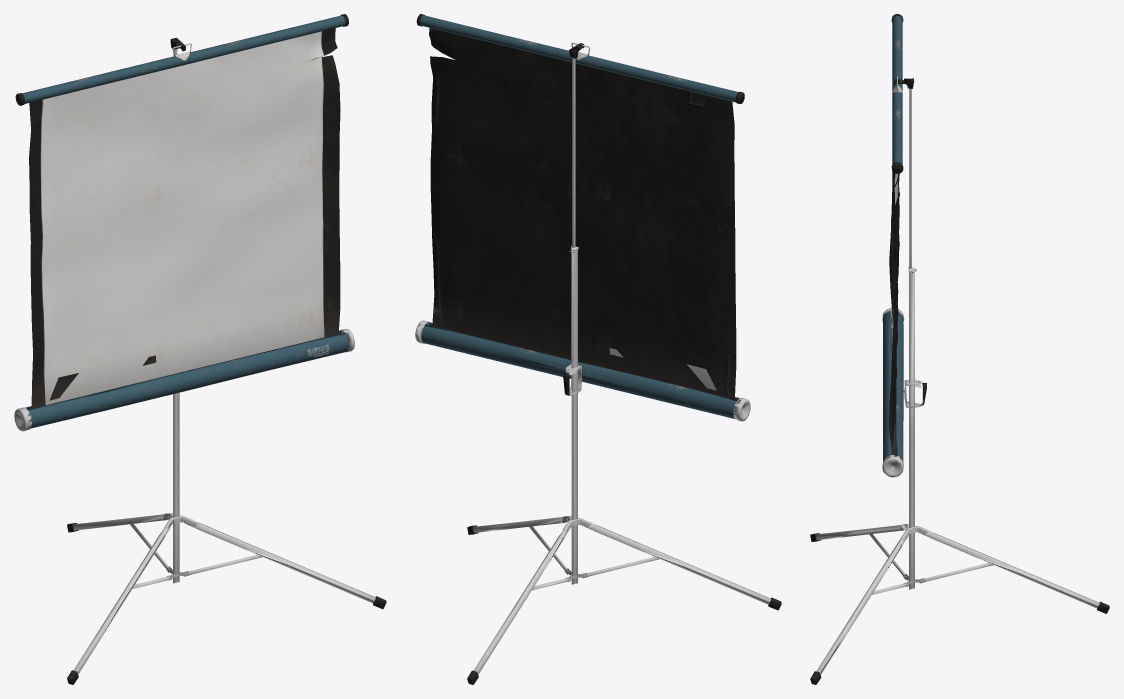
Rendered from projector_screen.glb.
3 views of the same model, side by side, from view 1: azimuth 30°, elevation 25°; view 2: azimuth 150°, elevation 25°; view 3: azimuth 270°, elevation 25° (orthographic). The views are drawn at different scales.
Visible parts, largest first — view 1: projector_screen; view 2: projector_screen; view 3: projector_screen.
Part boxes in pixels (<box>): projector_screen: <box>14,14,386,684</box>; projector_screen: <box>415,14,781,684</box>; projector_screen: <box>810,14,1109,684</box>.
Bounding box in the file's own units: 1.09 × 1.8 × 0.9158.
2 materials, 2 textured.
